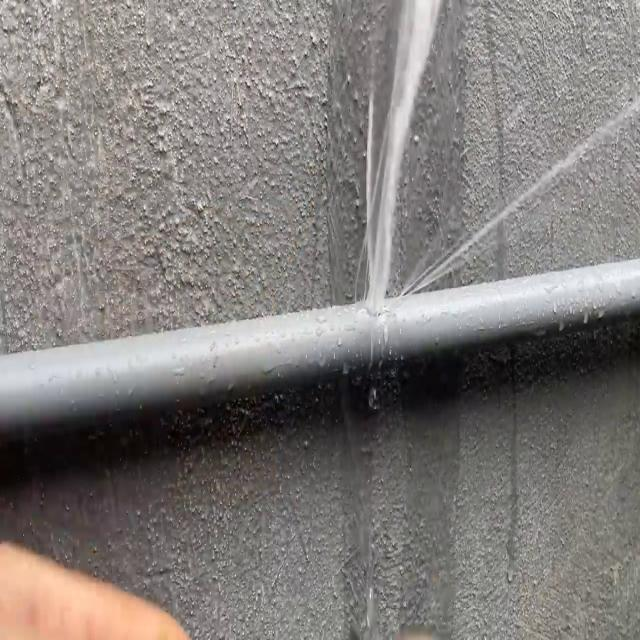leak: (359, 0, 445, 309)
